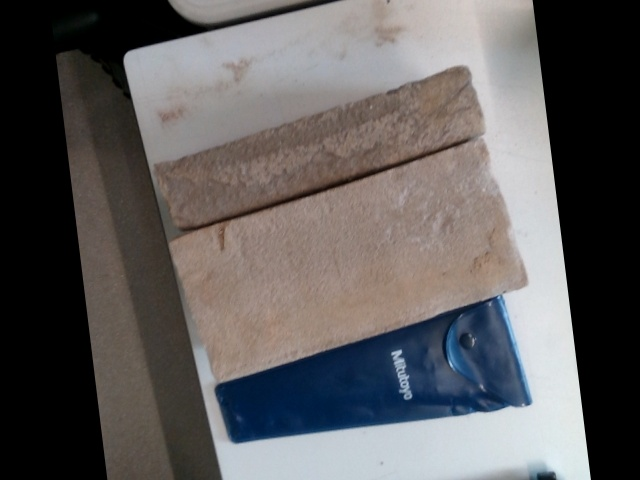brick: (176, 144, 524, 380)
